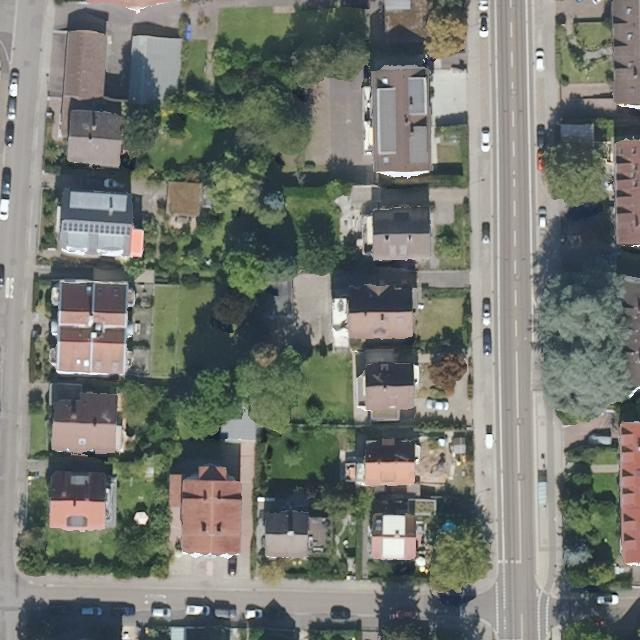PV: (62, 219, 134, 237)
